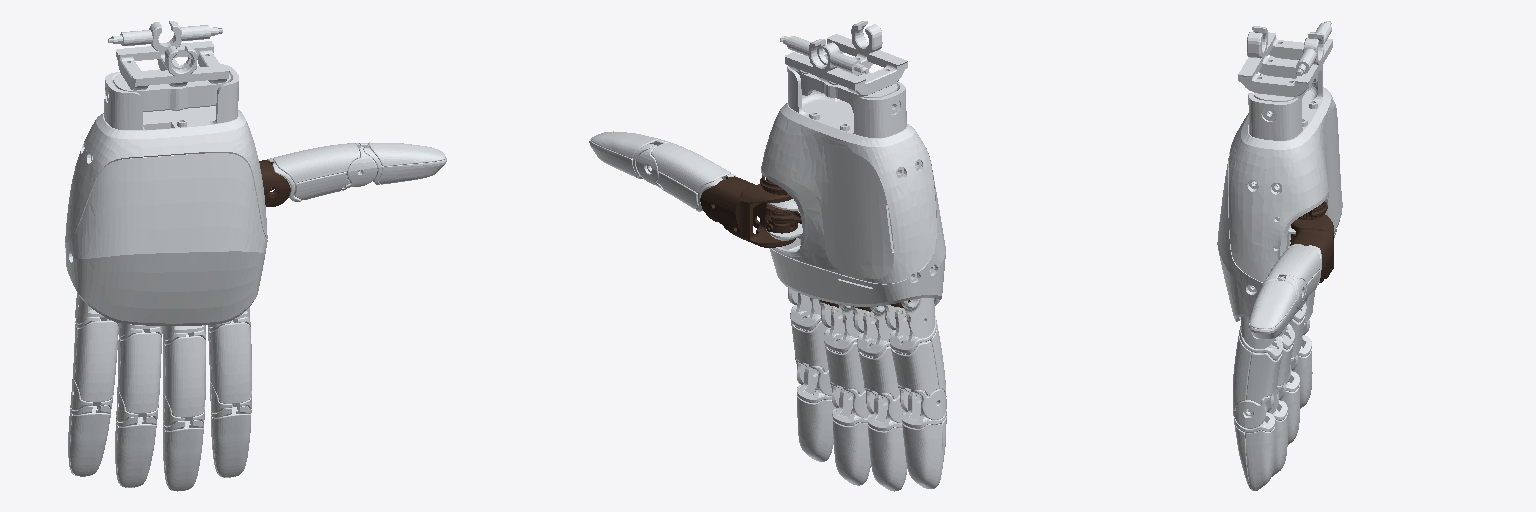
The robot description file, URDF, robot "Kable_Hand":
<?xml version="1.0" encoding="utf-8"?>
<!-- This URDF was automatically created by SolidWorks to URDF Exporter! Originally created by [author] ([email redacted]) 
     Commit Version: 1.6.0-4-g7f85cfe  Build Version: 1.6.7995.38578
     For more information, please see http://wiki.ros.org/sw_urdf_exporter -->
<robot
  name="Kable_Hand">
  <link
    name="base_link">
    <inertial>
      <origin
        xyz="-0.032744 -0.013118 0.018371"
        rpy="0 0 0" />
      <mass
        value="0.29085" />
      <inertia
        ixx="0.00018237"
        ixy="3.7275E-05"
        ixz="1.6016E-06"
        iyy="0.00031716"
        iyz="-1.1094E-05"
        izz="0.00018376" />
    </inertial>
    <visual>
      <origin
        xyz="0 0 0"
        rpy="0 0 0" />
      <geometry>
        <mesh
          filename="../meshes/base_link.STL" />
      </geometry>
      <material
        name="">
        <color
          rgba="0.89804 0.91765 0.92941 1" />
      </material>
    </visual>
    <collision>
      <origin
        xyz="0 0 0"
        rpy="0 0 0" />
      <geometry>
        <mesh
          filename="../meshes/base_link.STL" />
      </geometry>
    </collision>
  </link>
  <link
    name="Gear_Link1">
    <inertial>
      <origin
        xyz="3.21235971656453E-07 -3.321260095418E-08 -0.000970165037561699"
        rpy="0 0 0" />
      <mass
        value="0.00492029859718589" />
      <inertia
        ixx="7.15517939042466E-08"
        ixy="1.08297969210548E-09"
        ixz="-1.11935671116004E-12"
        iyy="7.14849036552842E-08"
        iyz="-1.03875202755291E-12"
        izz="6.79250460692256E-08" />
    </inertial>
    <visual>
      <origin
        xyz="0 0 0"
        rpy="0 0 0" />
      <geometry>
        <mesh
          filename="../meshes/Gear_Link1.STL" />
      </geometry>
      <material
        name="">
        <color
          rgba="0.317647058823529 0.247058823529412 0.207843137254902 1" />
      </material>
    </visual>
    <collision>
      <origin
        xyz="0 0 0"
        rpy="0 0 0" />
      <geometry>
        <mesh
          filename="../meshes/Gear_Link1.STL" />
      </geometry>
    </collision>
  </link>
  <joint
    name="Gear_Joint1"
    type="revolute">
    <origin
      xyz="-0.065517 0.002731 -0.026815"
      rpy="-1.7585 1.0421 -1.9901" />
    <parent
      link="base_link" />
    <child
      link="Gear_Link1" />
    <axis
      xyz="0 0 -1" />
    <limit
      lower="0"
      upper="3.8397"
      effort="0"
      velocity="0" />
  </joint>
  <link
    name="Gear_Link2">
    <inertial>
      <origin
        xyz="3.215E-07 -3.0764E-08 -0.00097016"
        rpy="0 0 0" />
      <mass
        value="0.0049203" />
      <inertia
        ixx="7.1552E-08"
        ixy="1.083E-09"
        ixz="-1.1056E-12"
        iyy="7.1485E-08"
        iyz="-1.0308E-12"
        izz="6.7925E-08" />
    </inertial>
    <visual>
      <origin
        xyz="0 0 0"
        rpy="0 0 0" />
      <geometry>
        <mesh
          filename="../meshes/Gear_Link2.STL" />
      </geometry>
      <material
        name="">
        <color
          rgba="0.31765 0.24706 0.20784 1" />
      </material>
    </visual>
    <collision>
      <origin
        xyz="0 0 0"
        rpy="0 0 0" />
      <geometry>
        <mesh
          filename="../meshes/Gear_Link2.STL" />
      </geometry>
    </collision>
  </link>
  <joint
    name="Gear_Joint2"
    type="revolute">
    <origin
      xyz="-0.045112 -0.0026274 -0.035619"
      rpy="-1.6965 1.0464 -1.9366" />
    <parent
      link="base_link" />
    <child
      link="Gear_Link2" />
    <axis
      xyz="0 0 -1" />
    <limit
      lower="0"
      upper="3.8397"
      effort="0"
      velocity="0" />
  </joint>
  <link
    name="Gear_Link3">
    <inertial>
      <origin
        xyz="2.0285E-07 1.9533E-07 -0.00097016"
        rpy="0 0 0" />
      <mass
        value="0.0049203" />
      <inertia
        ixx="7.1552E-08"
        ixy="1.083E-09"
        ixz="-1.0652E-12"
        iyy="7.1485E-08"
        iyz="-1.0045E-12"
        izz="6.7925E-08" />
    </inertial>
    <visual>
      <origin
        xyz="0 0 0"
        rpy="0 0 0" />
      <geometry>
        <mesh
          filename="../meshes/Gear_Link3.STL" />
      </geometry>
      <material
        name="">
        <color
          rgba="0.31765 0.24706 0.20784 1" />
      </material>
    </visual>
    <collision>
      <origin
        xyz="0 0 0"
        rpy="0 0 0" />
      <geometry>
        <mesh
          filename="../meshes/Gear_Link3.STL" />
      </geometry>
    </collision>
  </link>
  <joint
    name="Gear_Joint3"
    type="revolute">
    <origin
      xyz="-0.024133 -0.0081371 -0.040426"
      rpy="-1.6339 1.0489 -1.8823" />
    <parent
      link="base_link" />
    <child
      link="Gear_Link3" />
    <axis
      xyz="0 0 -1" />
    <limit
      lower="0"
      upper="3.8397"
      effort="0"
      velocity="0" />
  </joint>
  <link
    name="Gear_Link4">
    <inertial>
      <origin
        xyz="3.3395E-07 -1.7285E-08 -0.00097016"
        rpy="0 0 0" />
      <mass
        value="0.0049203" />
      <inertia
        ixx="7.1552E-08"
        ixy="1.083E-09"
        ixz="-1.0307E-12"
        iyy="7.1485E-08"
        iyz="-9.7987E-13"
        izz="6.7925E-08" />
    </inertial>
    <visual>
      <origin
        xyz="0 0 0"
        rpy="0 0 0" />
      <geometry>
        <mesh
          filename="../meshes/Gear_Link4.STL" />
      </geometry>
      <material
        name="">
        <color
          rgba="0.89804 0.91765 0.92941 1" />
      </material>
    </visual>
    <collision>
      <origin
        xyz="0 0 0"
        rpy="0 0 0" />
      <geometry>
        <mesh
          filename="../meshes/Gear_Link4.STL" />
      </geometry>
    </collision>
  </link>
  <joint
    name="Gear_Joint4"
    type="revolute">
    <origin
      xyz="-0.0029031 -0.013712 -0.03599"
      rpy="-1.5708 1.0498 -1.8276" />
    <parent
      link="base_link" />
    <child
      link="Gear_Link4" />
    <axis
      xyz="0 0 -1" />
    <limit
      lower="0"
      upper="3.8397"
      effort="0"
      velocity="0" />
  </joint>
  <link
    name="Thumb_Side_Gear_Link">
    <inertial>
      <origin
        xyz="0.010087 0.0025106 0.0052169"
        rpy="0 0 0" />
      <mass
        value="0.025787" />
      <inertia
        ixx="2.2707E-06"
        ixy="-3.1994E-09"
        ixz="-2.8841E-07"
        iyy="3.6185E-06"
        iyz="2.1872E-08"
        izz="3.0855E-06" />
    </inertial>
    <visual>
      <origin
        xyz="0 0 0"
        rpy="0 0 0" />
      <geometry>
        <mesh
          filename="../meshes/Thumb_Side_Gear_Link.STL" />
      </geometry>
      <material
        name="">
        <color
          rgba="0.31765 0.24706 0.20784 1" />
      </material>
    </visual>
    <collision>
      <origin
        xyz="0 0 0"
        rpy="0 0 0" />
      <geometry>
        <mesh
          filename="../meshes/Thumb_Side_Gear_Link.STL" />
      </geometry>
    </collision>
  </link>
  <joint
    name="Thumb_Side_Gear_Joint"
    type="revolute">
    <origin
      xyz="0 0 0"
      rpy="0 0 0" />
    <parent
      link="base_link" />
    <child
      link="Thumb_Side_Gear_Link" />
    <axis
      xyz="0 0 1" />
    <limit
      lower="0"
      upper="1.57"
      effort="0"
      velocity="0" />
  </joint>
  <link
    name="Thumb_Link1">
    <inertial>
      <origin
        xyz="0.025498 -0.00019689 -4.4958E-05"
        rpy="0 0 0" />
      <mass
        value="0.025004" />
      <inertia
        ixx="9.4677E-07"
        ixy="-7.8812E-08"
        ixz="2.6974E-08"
        iyy="4.7012E-06"
        iyz="6.3749E-09"
        izz="4.981E-06" />
    </inertial>
    <visual>
      <origin
        xyz="0 0 0"
        rpy="0 0 0" />
      <geometry>
        <mesh
          filename="../meshes/Thumb_Link1.STL" />
      </geometry>
      <material
        name="">
        <color
          rgba="0.89804 0.91765 0.92941 1" />
      </material>
    </visual>
    <collision>
      <origin
        xyz="0 0 0"
        rpy="0 0 0" />
      <geometry>
        <mesh
          filename="../meshes/Thumb_Link1.STL" />
      </geometry>
    </collision>
  </link>
  <joint
    name="Thumb_Joint1"
    type="revolute">
    <origin
      xyz="0.029921 0 0"
      rpy="-1.5708 0.031418 -0.25681" />
    <parent
      link="Thumb_Side_Gear_Link" />
    <child
      link="Thumb_Link1" />
    <axis
      xyz="0 0 -1" />
    <limit
      lower="0"
      upper="1.396"
      effort="0"
      velocity="0" />
    <mimic
      joint="Thumb_Gear_Joint"
      multiplier="0.4774"
      offset="0.18" />
  </joint>
  <link
    name="Thumb_Link2">
    <inertial>
      <origin
        xyz="0.020026 -0.0068153 -6.9655E-05"
        rpy="0 0 0" />
      <mass
        value="0.015561" />
      <inertia
        ixx="5.7593E-07"
        ixy="4.7614E-07"
        ixz="2.7255E-10"
        iyy="1.9292E-06"
        iyz="1.9242E-09"
        izz="2.1112E-06" />
    </inertial>
    <visual>
      <origin
        xyz="0 0 0"
        rpy="0 0 0" />
      <geometry>
        <mesh
          filename="../meshes/Thumb_Link2.STL" />
      </geometry>
      <material
        name="">
        <color
          rgba="0.89804 0.91765 0.92941 1" />
      </material>
    </visual>
    <collision>
      <origin
        xyz="0 0 0"
        rpy="0 0 0" />
      <geometry>
        <mesh
          filename="../meshes/Thumb_Link2.STL" />
      </geometry>
    </collision>
  </link>
  <joint
    name="Thumb_Joint2"
    type="revolute">
    <origin
      xyz="0.044515 0.0015319 0"
      rpy="0 0 0.5463" />
    <parent
      link="Thumb_Link1" />
    <child
      link="Thumb_Link2" />
    <axis
      xyz="0 0 -1" />
    <limit
      lower="0"
      upper="1.396"
      effort="0"
      velocity="0" />
    <mimic
      joint="Thumb_Gear_Joint"
      multiplier="0.49346"
      offset="0" />
  </joint>
  <link
    name="Thumb_Gear_Link">
    <inertial>
      <origin
        xyz="4.1326E-05 0.00015812 -0.00093746"
        rpy="0 0 0" />
      <mass
        value="0.007631" />
      <inertia
        ixx="1.4284E-07"
        ixy="3.1947E-10"
        ixz="1.6879E-12"
        iyy="1.4397E-07"
        iyz="-3.851E-13"
        izz="2.19E-07" />
    </inertial>
    <visual>
      <origin
        xyz="0 0 0"
        rpy="0 0 0" />
      <geometry>
        <mesh
          filename="../meshes/Thumb_Gear_Link.STL" />
      </geometry>
      <material
        name="">
        <color
          rgba="0.31765 0.24706 0.20784 1" />
      </material>
    </visual>
    <collision>
      <origin
        xyz="0 0 0"
        rpy="0 0 0" />
      <geometry>
        <mesh
          filename="../meshes/Thumb_Gear_Link.STL" />
      </geometry>
    </collision>
  </link>
  <joint
    name="Thumb_Gear_Joint"
    type="revolute">
    <origin
      xyz="0 0 0"
      rpy="0 0 0" />
    <parent
      link="base_link" />
    <child
      link="Thumb_Gear_Link" />
    <axis
      xyz="0 0 1" />
    <limit
      lower="0"
      upper="2.8293"
      effort="0"
      velocity="0" />
  </joint>
  <link
    name="Finger1_Link1">
    <inertial>
      <origin
        xyz="0.025476 -0.0010737 -4.4951E-05"
        rpy="0 0 0" />
      <mass
        value="0.025004" />
      <inertia
        ixx="9.4579E-07"
        ixy="5.0405E-08"
        ixz="2.7184E-08"
        iyy="4.7022E-06"
        iyz="5.4485E-09"
        izz="4.981E-06" />
    </inertial>
    <visual>
      <origin
        xyz="0 0 0"
        rpy="0 0 0" />
      <geometry>
        <mesh
          filename="../meshes/Finger1_Link1.STL" />
      </geometry>
      <material
        name="">
        <color
          rgba="0.89804 0.91765 0.92941 1" />
      </material>
    </visual>
    <collision>
      <origin
        xyz="0 0 0"
        rpy="0 0 0" />
      <geometry>
        <mesh
          filename="../meshes/Finger1_Link1.STL" />
      </geometry>
    </collision>
  </link>
  <joint
    name="Finger1_Joint1"
    type="revolute">
    <origin
      xyz="-0.068818 -0.0046734 -0.040694"
      rpy="2.5337 1.4559 2.2738" />
    <parent
      link="base_link" />
    <child
      link="Finger1_Link1" />
    <axis
      xyz="0 0 -1" />
    <limit
      lower="0"
      upper="1.396"
      effort="0"
      velocity="0" />
    <mimic
      joint="Gear_Joint1"
      multiplier="0.35176"
      offset="0.18" />
  </joint>
  <link
    name="Finger1_Link2">
    <inertial>
      <origin
        xyz="0.020025 -0.0068148 -6.9833E-05"
        rpy="0 0 0" />
      <mass
        value="0.01556" />
      <inertia
        ixx="5.7583E-07"
        ixy="4.7604E-07"
        ixz="2.9421E-10"
        iyy="1.9291E-06"
        iyz="1.9089E-09"
        izz="2.111E-06" />
    </inertial>
    <visual>
      <origin
        xyz="0 0 0"
        rpy="0 0 0" />
      <geometry>
        <mesh
          filename="../meshes/Finger1_Link2.STL" />
      </geometry>
      <material
        name="">
        <color
          rgba="0.89804 0.91765 0.92941 1" />
      </material>
    </visual>
    <collision>
      <origin
        xyz="0 0 0"
        rpy="0 0 0" />
      <geometry>
        <mesh
          filename="../meshes/Finger1_Link2.STL" />
      </geometry>
    </collision>
  </link>
  <joint
    name="Finger1_Joint2"
    type="revolute">
    <origin
      xyz="0.044541 0 0"
      rpy="0 0 0.51191" />
    <parent
      link="Finger1_Link1" />
    <child
      link="Finger1_Link2" />
    <axis
      xyz="0 0 -1" />
    <limit
      lower="0"
      upper="1.396"
      effort="0"
      velocity="0" />
    <mimic
      joint="Gear_Joint1"
      multiplier="0.3636"
      offset="0" />
  </joint>
  <link
    name="Finger2_Link1">
    <inertial>
      <origin
        xyz="0.025476 -0.0010737 -4.4938E-05"
        rpy="0 0 0" />
      <mass
        value="0.025004" />
      <inertia
        ixx="9.4579E-07"
        ixy="5.0406E-08"
        ixz="2.7183E-08"
        iyy="4.7022E-06"
        iyz="5.4488E-09"
        izz="4.981E-06" />
    </inertial>
    <visual>
      <origin
        xyz="0 0 0"
        rpy="0 0 0" />
      <geometry>
        <mesh
          filename="../meshes/Finger2_Link1.STL" />
      </geometry>
      <material
        name="">
        <color
          rgba="0.89804 0.91765 0.92941 1" />
      </material>
    </visual>
    <collision>
      <origin
        xyz="0 0 0"
        rpy="0 0 0" />
      <geometry>
        <mesh
          filename="../meshes/Finger2_Link1.STL" />
      </geometry>
    </collision>
  </link>
  <joint
    name="Finger2_Joint1"
    type="revolute">
    <origin
      xyz="-0.047991 -0.010143 -0.049531"
      rpy="2.334 1.4798 2.0751" />
    <parent
      link="base_link" />
    <child
      link="Finger2_Link1" />
    <axis
      xyz="0 0 -1" />
    <limit
      lower="0"
      upper="1.396"
      effort="0"
      velocity="0" />
    <mimic
      joint="Gear_Joint2"
      multiplier="0.35176"
      offset="0.18" />
  </joint>
  <link
    name="Finger2_Link2">
    <inertial>
      <origin
        xyz="0.0200258743515887 -0.00681524058208692 -6.9645381510039E-05"
        rpy="0 0 0" />
      <mass
        value="0.0155610418061381" />
      <inertia
        ixx="5.75913178279493E-07"
        ixy="4.76135574514719E-07"
        ixz="2.64568846571697E-10"
        iyy="1.92921986268351E-06"
        iyz="1.92872157346128E-09"
        izz="2.11120983189749E-06" />
    </inertial>
    <visual>
      <origin
        xyz="0 0 0"
        rpy="0 0 0" />
      <geometry>
        <mesh
          filename="../meshes/Finger2_Link2.STL" />
      </geometry>
      <material
        name="">
        <color
          rgba="0.898039215686275 0.917647058823529 0.929411764705882 1" />
      </material>
    </visual>
    <collision>
      <origin
        xyz="0 0 0"
        rpy="0 0 0" />
      <geometry>
        <mesh
          filename="../meshes/Finger2_Link2.STL" />
      </geometry>
    </collision>
  </link>
  <joint
    name="Finger2_Joint2"
    type="revolute">
    <origin
      xyz="0.044541 0 0"
      rpy="0 0 0.51191" />
    <parent
      link="Finger2_Link1" />
    <child
      link="Finger2_Link2" />
    <axis
      xyz="0 0 -1" />
    <limit
      lower="0"
      upper="1.396"
      effort="0"
      velocity="0" />
    <mimic
      joint="Gear_Joint2"
      multiplier="0.3636"
      offset="0" />
  </joint>
  <link
    name="Finger3_Link1">
    <inertial>
      <origin
        xyz="0.025476 -0.0010737 -4.4956E-05"
        rpy="0 0 0" />
      <mass
        value="0.025004" />
      <inertia
        ixx="9.4579E-07"
        ixy="5.0422E-08"
        ixz="2.7177E-08"
        iyy="4.7022E-06"
        iyz="5.4439E-09"
        izz="4.981E-06" />
    </inertial>
    <visual>
      <origin
        xyz="0 0 0"
        rpy="0 0 0" />
      <geometry>
        <mesh
          filename="../meshes/Finger3_Link1.STL" />
      </geometry>
      <material
        name="">
        <color
          rgba="0.89804 0.91765 0.92941 1" />
      </material>
    </visual>
    <collision>
      <origin
        xyz="0 0 0"
        rpy="0 0 0" />
      <geometry>
        <mesh
          filename="../meshes/Finger3_Link1.STL" />
      </geometry>
    </collision>
  </link>
  <joint
    name="Finger3_Joint1"
    type="revolute">
    <origin
      xyz="-0.026589 -0.015763 -0.054359"
      rpy="2.0165 1.4979 1.7587" />
    <parent
      link="base_link" />
    <child
      link="Finger3_Link1" />
    <axis
      xyz="0 0 -1" />
    <limit
      lower="0"
      upper="1.396"
      effort="0"
      velocity="0" />
    <mimic
      joint="Gear_Joint3"
      multiplier="0.35176"
      offset="0.18" />
  </joint>
  <link
    name="Finger3_Link2">
    <inertial>
      <origin
        xyz="0.020026 -0.0068153 -6.9667E-05"
        rpy="0 0 0" />
      <mass
        value="0.015561" />
      <inertia
        ixx="5.7592E-07"
        ixy="4.7614E-07"
        ixz="2.6912E-10"
        iyy="1.9292E-06"
        iyz="1.9252E-09"
        izz="2.1112E-06" />
    </inertial>
    <visual>
      <origin
        xyz="0 0 0"
        rpy="0 0 0" />
      <geometry>
        <mesh
          filename="../meshes/Finger3_Link2.STL" />
      </geometry>
      <material
        name="">
        <color
          rgba="0.89804 0.91765 0.92941 1" />
      </material>
    </visual>
    <collision>
      <origin
        xyz="0 0 0"
        rpy="0 0 0" />
      <geometry>
        <mesh
          filename="../meshes/Finger3_Link2.STL" />
      </geometry>
    </collision>
  </link>
  <joint
    name="Finger3_Joint2"
    type="revolute">
    <origin
      xyz="0.044541 0 0"
      rpy="0 0 0.51191" />
    <parent
      link="Finger3_Link1" />
    <child
      link="Finger3_Link2" />
    <axis
      xyz="0 0 -1" />
    <limit
      lower="0"
      upper="1.396"
      effort="0"
      velocity="0" />
    <mimic
      joint="Gear_Joint3"
      multiplier="0.3636"
      offset="0" />
  </joint>
  <link
    name="Finger4_Link1">
    <inertial>
      <origin
        xyz="0.025476 -0.0010737 -4.4975E-05"
        rpy="0 0 0" />
      <mass
        value="0.025004" />
      <inertia
        ixx="9.4579E-07"
        ixy="5.0406E-08"
        ixz="2.7178E-08"
        iyy="4.7022E-06"
        iyz="5.4442E-09"
        izz="4.981E-06" />
    </inertial>
    <visual>
      <origin
        xyz="0 0 0"
        rpy="0 0 0" />
      <geometry>
        <mesh
          filename="../meshes/Finger4_Link1.STL" />
      </geometry>
      <material
        name="">
        <color
          rgba="0.89804 0.91765 0.92941 1" />
      </material>
    </visual>
    <collision>
      <origin
        xyz="0 0 0"
        rpy="0 0 0" />
      <geometry>
        <mesh
          filename="../meshes/Finger4_Link1.STL" />
      </geometry>
    </collision>
  </link>
  <joint
    name="Finger4_Joint1"
    type="revolute">
    <origin
      xyz="-0.004935 -0.02145 -0.04993"
      rpy="1.5708 1.505 1.314" />
    <parent
      link="base_link" />
    <child
      link="Finger4_Link1" />
    <axis
      xyz="0 0 -1" />
    <limit
      lower="0"
      upper="1.396"
      effort="0"
      velocity="0" />
    <mimic
      joint="Gear_Joint4"
      multiplier="0.35176"
      offset="0.18" />
  </joint>
  <link
    name="Finger4_Link2">
    <inertial>
      <origin
        xyz="0.020026 -0.0068153 -6.9715E-05"
        rpy="0 0 0" />
      <mass
        value="0.015561" />
      <inertia
        ixx="5.7591E-07"
        ixy="4.7614E-07"
        ixz="2.6685E-10"
        iyy="1.9293E-06"
        iyz="1.9265E-09"
        izz="2.1112E-06" />
    </inertial>
    <visual>
      <origin
        xyz="0 0 0"
        rpy="0 0 0" />
      <geometry>
        <mesh
          filename="../meshes/Finger4_Link2.STL" />
      </geometry>
      <material
        name="">
        <color
          rgba="0.89804 0.91765 0.92941 1" />
      </material>
    </visual>
    <collision>
      <origin
        xyz="0 0 0"
        rpy="0 0 0" />
      <geometry>
        <mesh
          filename="../meshes/Finger4_Link2.STL" />
      </geometry>
    </collision>
  </link>
  <joint
    name="Finger4_Joint2"
    type="revolute">
    <origin
      xyz="0.044541 0 0"
      rpy="0 0 0.51191" />
    <parent
      link="Finger4_Link1" />
    <child
      link="Finger4_Link2" />
    <axis
      xyz="0 0 -1" />
    <limit
      lower="0"
      upper="1.396"
      effort="0"
      velocity="0" />
    <mimic
      joint="Gear_Joint4"
      multiplier="0.3636"
      offset="0" />
  </joint>
</robot>

--- Facts derived from the render (not from the file) ---
3 views of the same robot in one strip: view 1: azimuth 30°, elevation 25°; view 2: azimuth 150°, elevation 25°; view 3: azimuth 270°, elevation 25° (orthographic).
Model Kable_Hand with 17 links and 16 joints (16 revolute), rooted at base_link, posed all joints at 0.
Visible links, largest first — view 1: base_link, Thumb_Link1, Finger2_Link1, Finger3_Link1, Finger1_Link1, Finger4_Link1, Thumb_Link2, Finger1_Link2, Finger2_Link2, Finger3_Link2, Finger4_Link2, Thumb_Side_Gear_Link; view 2: base_link, Thumb_Side_Gear_Link, Finger1_Link1, Thumb_Link1, Finger1_Link2, Finger2_Link1, Finger3_Link1, Finger2_Link2, Finger3_Link2, Finger4_Link2, Finger4_Link1, Thumb_Link2; view 3: base_link, Finger4_Link1, Thumb_Link2, Finger4_Link2, Thumb_Link1, Thumb_Side_Gear_Link, Finger3_Link2, Finger1_Link2, Finger2_Link2, Finger3_Link1, Finger2_Link1.
Boxes of the visible links, x1=… form: base_link: x1=65, y1=21, x2=267, y2=339; Thumb_Link1: x1=267, y1=143, x2=377, y2=201; Finger2_Link1: x1=116, y1=327, x2=161, y2=421; Finger3_Link1: x1=163, y1=330, x2=205, y2=426; Finger1_Link1: x1=71, y1=317, x2=118, y2=410; Finger4_Link1: x1=208, y1=317, x2=251, y2=413; Thumb_Link2: x1=359, y1=142, x2=446, y2=184; Finger1_Link2: x1=68, y1=402, x2=110, y2=476; Finger2_Link2: x1=115, y1=414, x2=156, y2=487; Finger3_Link2: x1=163, y1=417, x2=203, y2=491; Finger4_Link2: x1=211, y1=404, x2=251, y2=477; Thumb_Side_Gear_Link: x1=259, y1=160, x2=290, y2=206; base_link: x1=761, y1=21, x2=945, y2=341; Thumb_Side_Gear_Link: x1=700, y1=175, x2=801, y2=247; Finger1_Link1: x1=889, y1=307, x2=946, y2=419; Thumb_Link1: x1=636, y1=141, x2=735, y2=211; Finger1_Link2: x1=902, y1=392, x2=946, y2=488; Finger2_Link1: x1=857, y1=311, x2=906, y2=422; Finger3_Link1: x1=824, y1=306, x2=872, y2=417; Finger2_Link2: x1=868, y1=395, x2=907, y2=491; Finger3_Link2: x1=832, y1=390, x2=870, y2=485; Finger4_Link2: x1=797, y1=367, x2=836, y2=461; Finger4_Link1: x1=790, y1=293, x2=831, y2=395; Thumb_Link2: x1=589, y1=131, x2=664, y2=178; base_link: x1=1217, y1=21, x2=1342, y2=348; Finger4_Link1: x1=1233, y1=330, x2=1282, y2=428; Thumb_Link2: x1=1248, y1=276, x2=1297, y2=339; Finger4_Link2: x1=1233, y1=404, x2=1274, y2=490; Thumb_Link1: x1=1263, y1=244, x2=1321, y2=309; Thumb_Side_Gear_Link: x1=1290, y1=201, x2=1333, y2=282; Finger3_Link2: x1=1272, y1=392, x2=1287, y2=476; Finger1_Link2: x1=1293, y1=335, x2=1312, y2=408; Finger2_Link2: x1=1280, y1=365, x2=1299, y2=444; Finger3_Link1: x1=1268, y1=324, x2=1294, y2=413; Finger2_Link1: x1=1285, y1=303, x2=1306, y2=383.
Size in the robot's own frame: 0.2032 by 0.062 by 0.2425 metres.
17 mesh visuals loaded from 17 distinct referenced files (17 binary STL).
